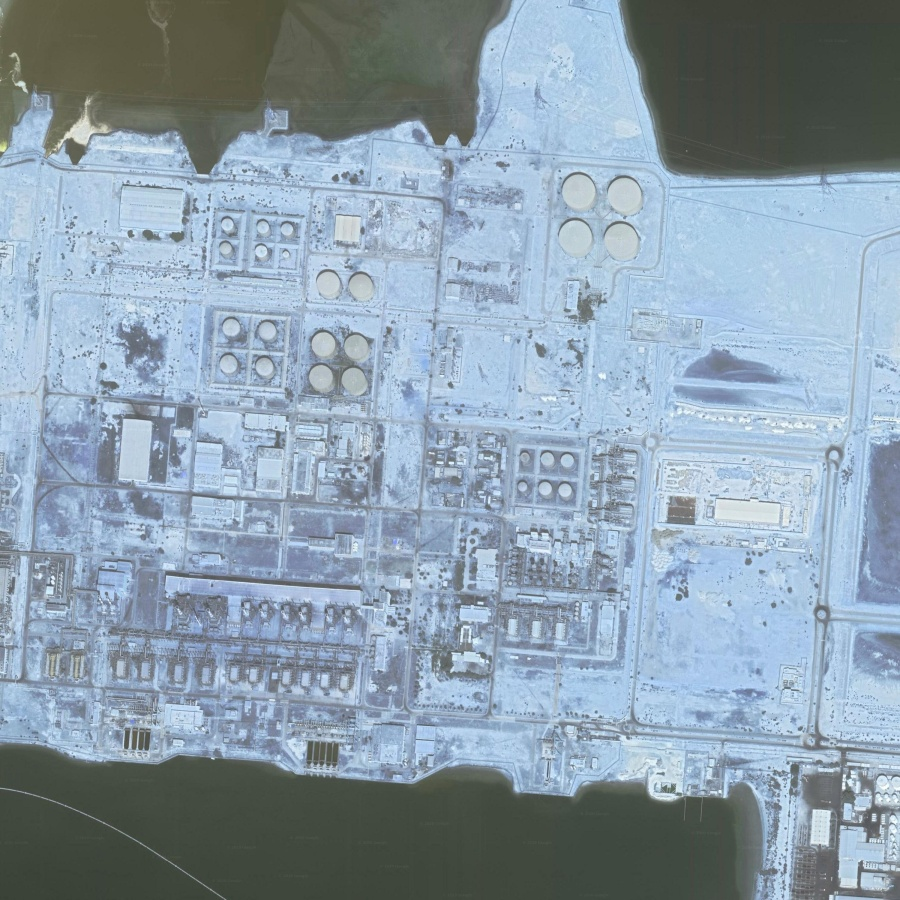PowerPlant: (92, 181, 634, 698)
